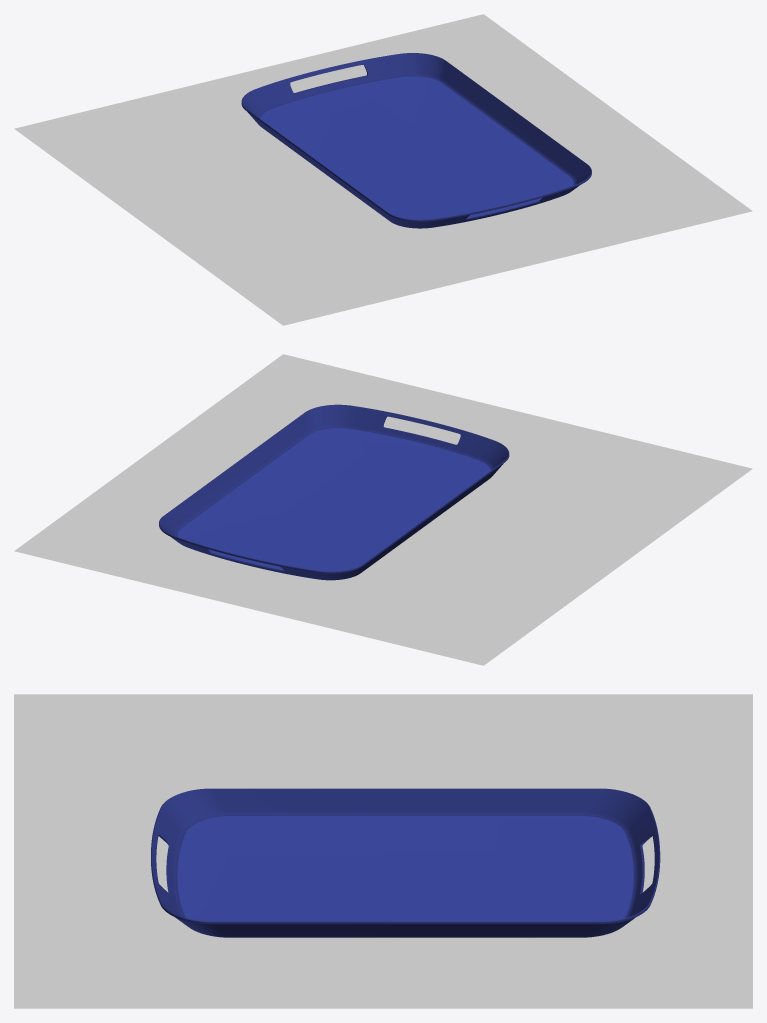
File: TrayBlue.fbx
3 views of the same model, one above another, from view 1: azimuth 30°, elevation 25°; view 2: azimuth 150°, elevation 25°; view 3: azimuth 270°, elevation 25° (orthographic). The views are drawn at different scales.
Parts seen in each view (by area): view 1: Plane.001, Plane; view 2: Plane.001, Plane; view 3: Plane.001, Plane.
Part boxes in pixels (left/top/right/bottom): Plane.001: left=14, top=14, right=752, bottom=325; Plane: left=241, top=53, right=591, bottom=228; Plane.001: left=14, top=354, right=752, bottom=665; Plane: left=159, top=404, right=509, bottom=580; Plane.001: left=14, top=694, right=752, bottom=1008; Plane: left=151, top=788, right=660, bottom=937.
Size of the model in its own units: 518 by 18.58 by 515.
